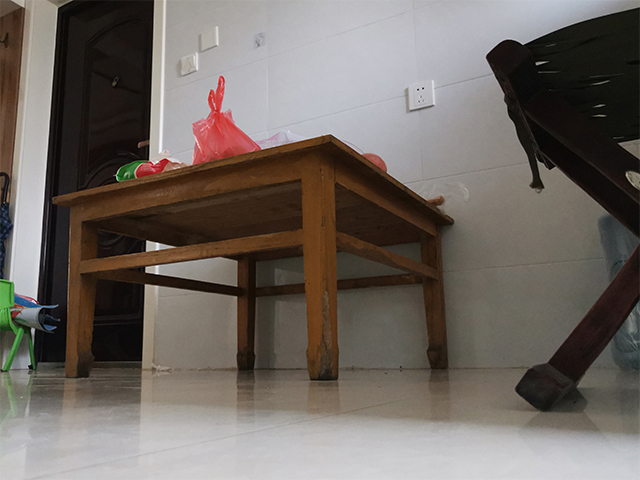stool: (483, 6, 640, 415)
table: (48, 131, 457, 383)
